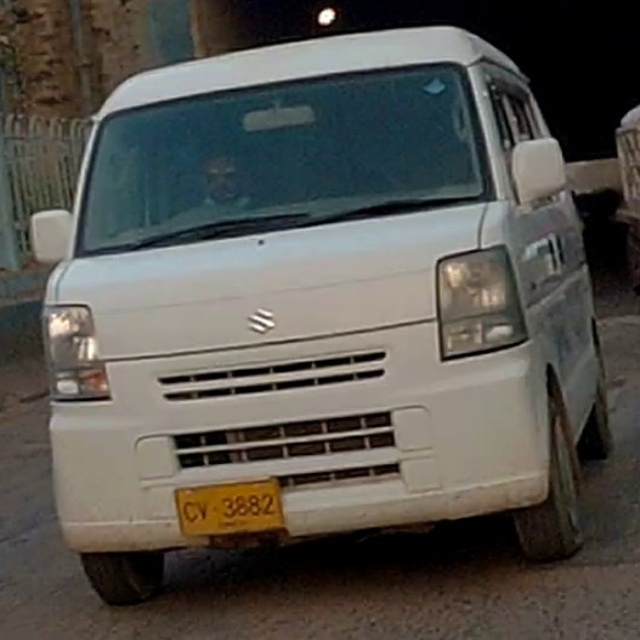Van: (26, 26, 613, 607)
